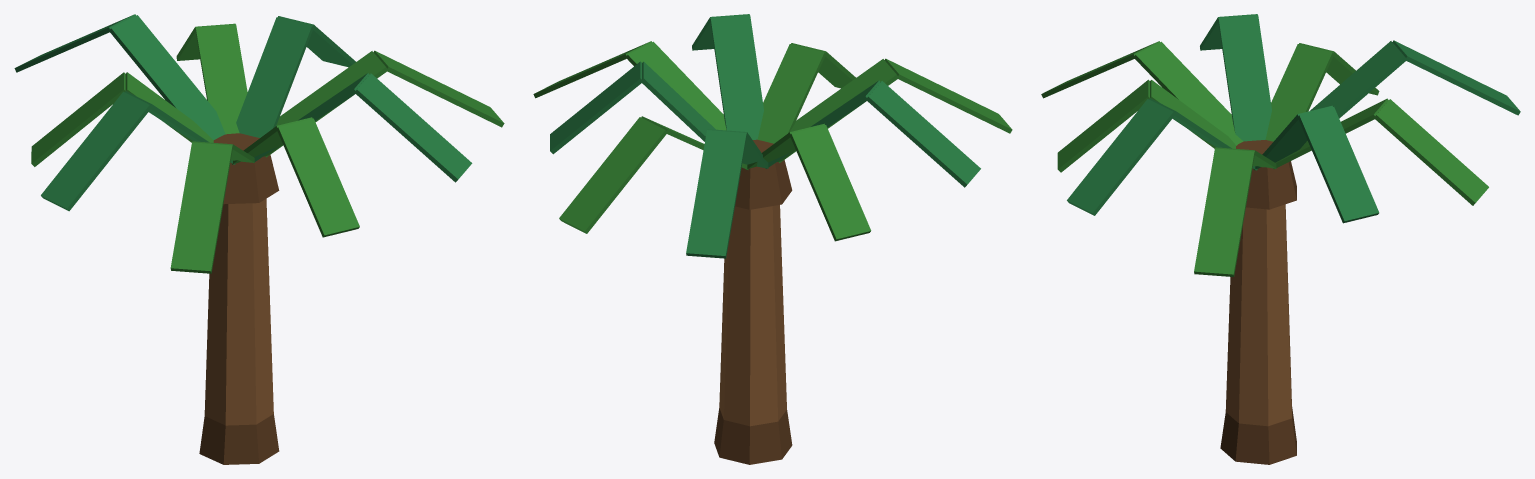
Rendered from prop_palm.glb.
3 renders of one model, left to right at view 1: azimuth 30°, elevation 25°; view 2: azimuth 150°, elevation 25°; view 3: azimuth 270°, elevation 25°, orthographic. The views are drawn at different scales.
Visible parts, largest first — view 1: body; view 2: body; view 3: body.
Boxes of the visible parts, left/top/right/bottom form: body: left=14, top=14, right=504, bottom=464; body: left=533, top=14, right=1012, bottom=464; body: left=1041, top=14, right=1520, bottom=464.
Bounding box in the file's own units: 3.77 × 3.12 × 3.58.
